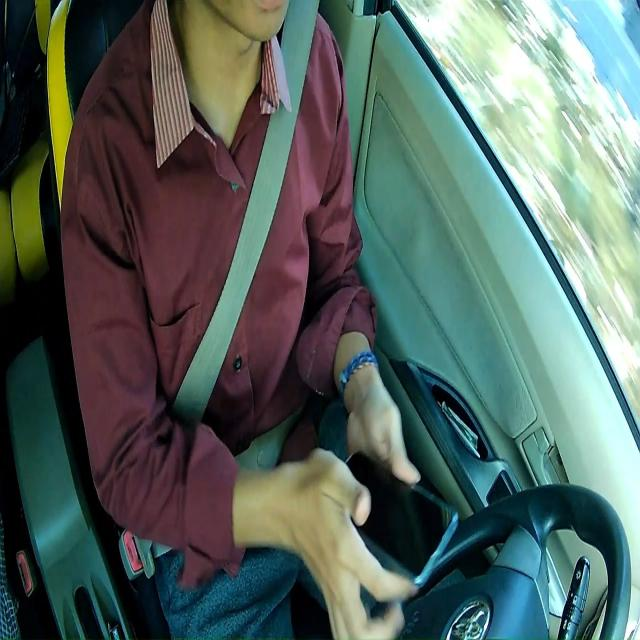phone: (346, 448, 458, 586)
